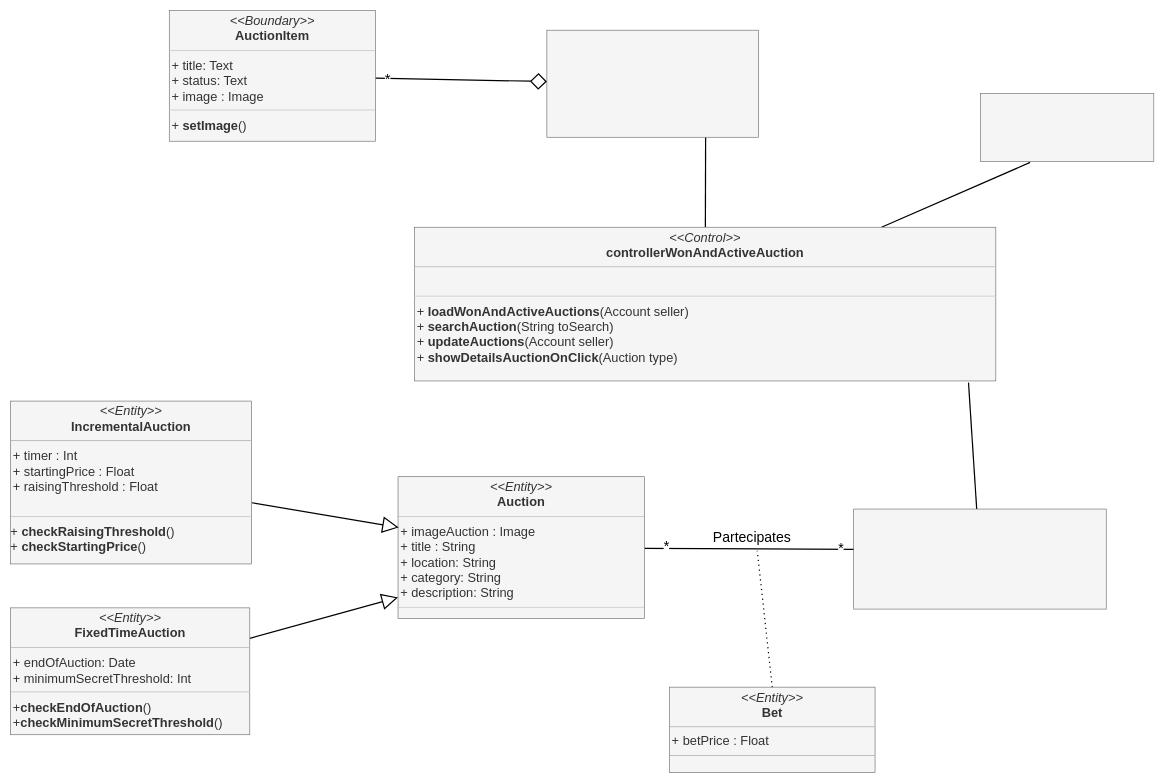
The diagram is 1164 pixels wide and 783 high, and some of its shapes have lost their labels. Here are the shapes that lost their labels. From the top down, the centre of each, then its label:
point (652, 83): <<Boundary>> MyAuctions + searchText : TextField + checkSearchText ()
point (1067, 127): <<Boundary>> AuctionDetails
point (979, 558): <<Entity>> Buyer + getAllAuctions ()
